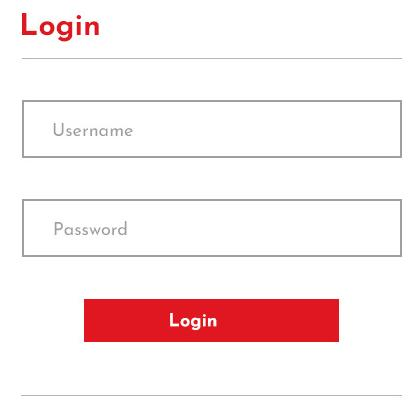button: (80, 296, 345, 345)
field: (19, 196, 408, 261), (20, 97, 405, 161)
